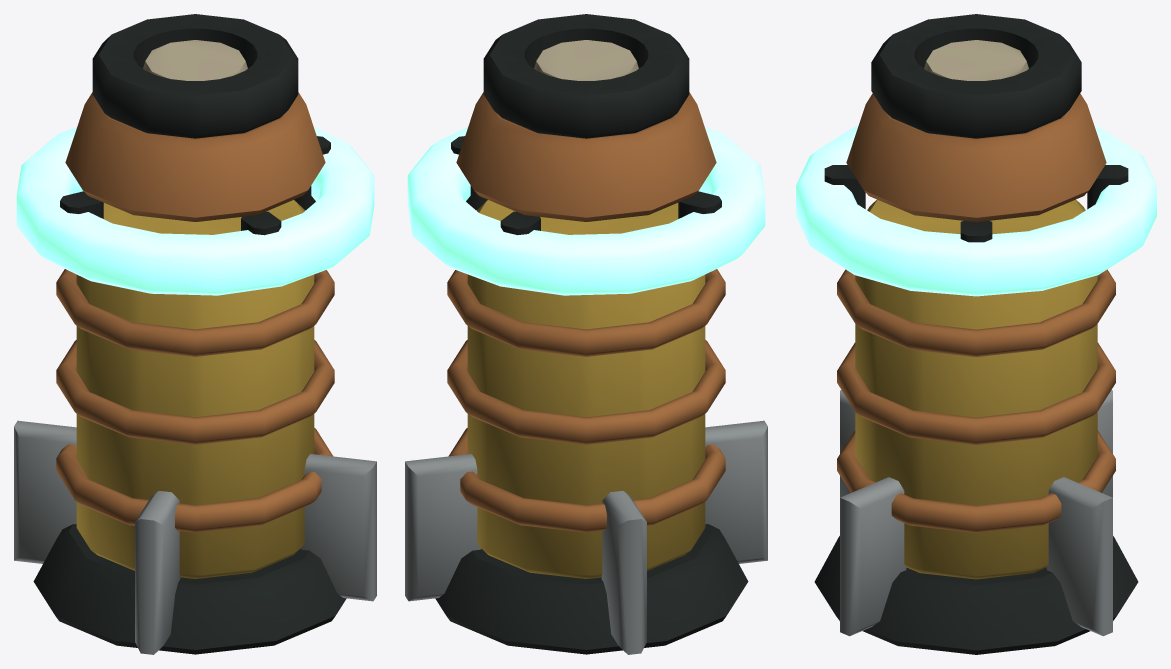
File: cons_anchor_flare.glb
3 views of the same model, side by side, from view 1: azimuth 30°, elevation 25°; view 2: azimuth 150°, elevation 25°; view 3: azimuth 270°, elevation 25° (orthographic).
Visible parts, largest first — view 1: cons_anchor_flare_mesh; view 2: cons_anchor_flare_mesh; view 3: cons_anchor_flare_mesh.
Part boxes in pixels (left/top/right/bottom): cons_anchor_flare_mesh: left=14, top=14, right=376, bottom=654; cons_anchor_flare_mesh: left=405, top=14, right=767, bottom=654; cons_anchor_flare_mesh: left=796, top=14, right=1156, bottom=654.
Size of the model in its own units: 0.316 by 0.5155 by 0.316.
